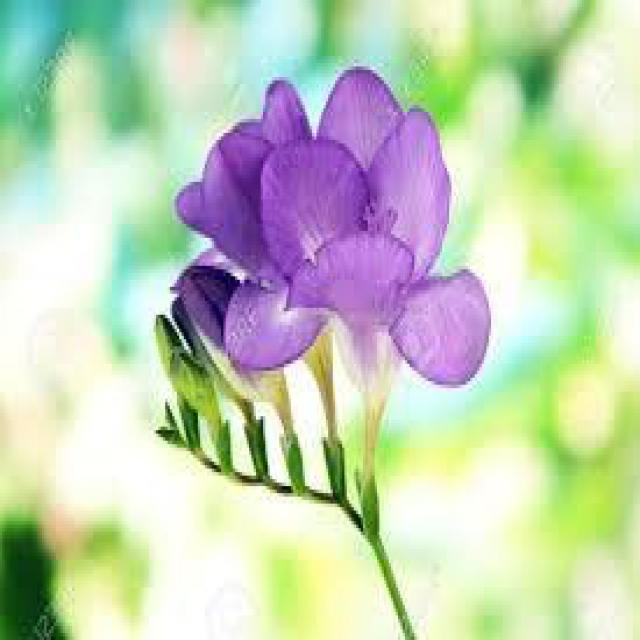freesia: (150, 65, 508, 402)
